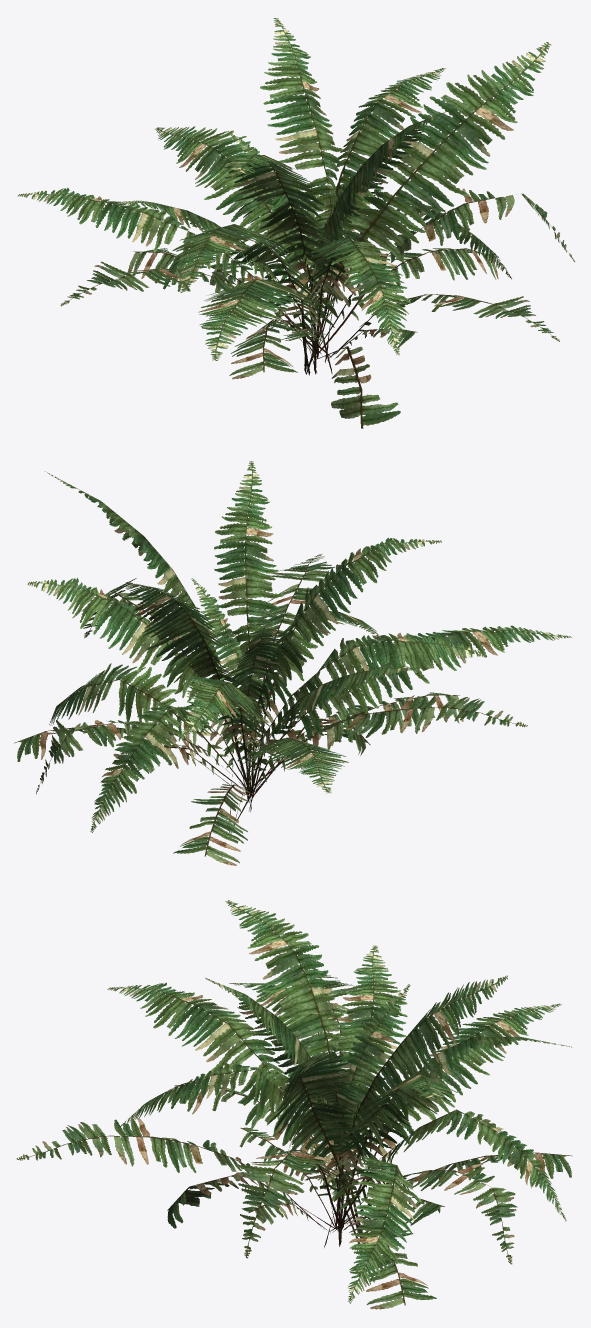
The model's file is Ground_Fern_Bush_a.fbx.
3 views of the same model, one above another, from view 1: azimuth 30°, elevation 25°; view 2: azimuth 150°, elevation 25°; view 3: azimuth 270°, elevation 25° (orthographic). The views are drawn at different scales.
Visible parts, largest first — view 1: leaf_Ground_Fern_Bush_big__mesh; view 2: leaf_Ground_Fern_Bush_big__mesh; view 3: leaf_Ground_Fern_Bush_big__mesh.
Boxes of the visible parts, left/top/right/bottom form: leaf_Ground_Fern_Bush_big__mesh: left=18, top=18, right=574, bottom=428; leaf_Ground_Fern_Bush_big__mesh: left=14, top=461, right=571, bottom=865; leaf_Ground_Fern_Bush_big__mesh: left=16, top=900, right=571, bottom=1309.
Size of the model in its own units: 3.09 by 1.85 by 2.97.
Materials: 1 (1 with a texture image).
